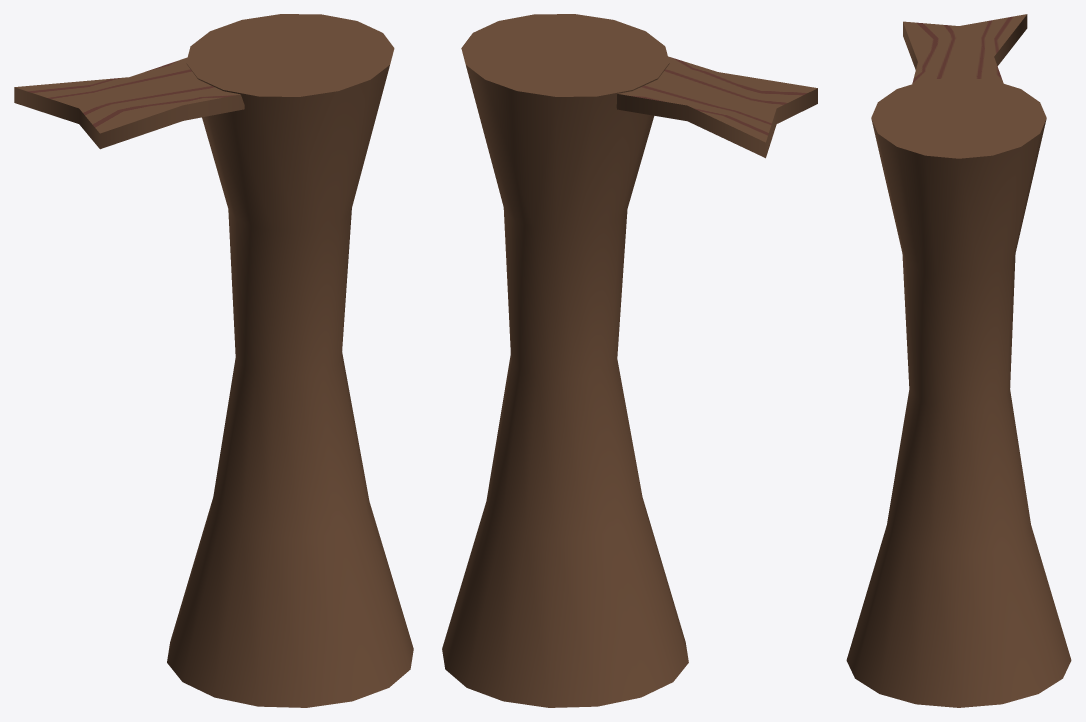
File: tree_platform_tree.glb
3 views of the same model, side by side, from view 1: azimuth 30°, elevation 25°; view 2: azimuth 150°, elevation 25°; view 3: azimuth 270°, elevation 25° (orthographic). The views are drawn at different scales.
Parts seen in each view (by area): view 1: Cube.002; view 2: Cube.002; view 3: Cube.002.
Part boxes in pixels (bbox=[...]): Cube.002: bbox=[14, 14, 413, 707]; Cube.002: bbox=[442, 14, 817, 707]; Cube.002: bbox=[846, 14, 1071, 707].
Bounding box in the file's own units: 67.55 × 112 × 42.09.
Materials: 1 (1 with a texture image).
